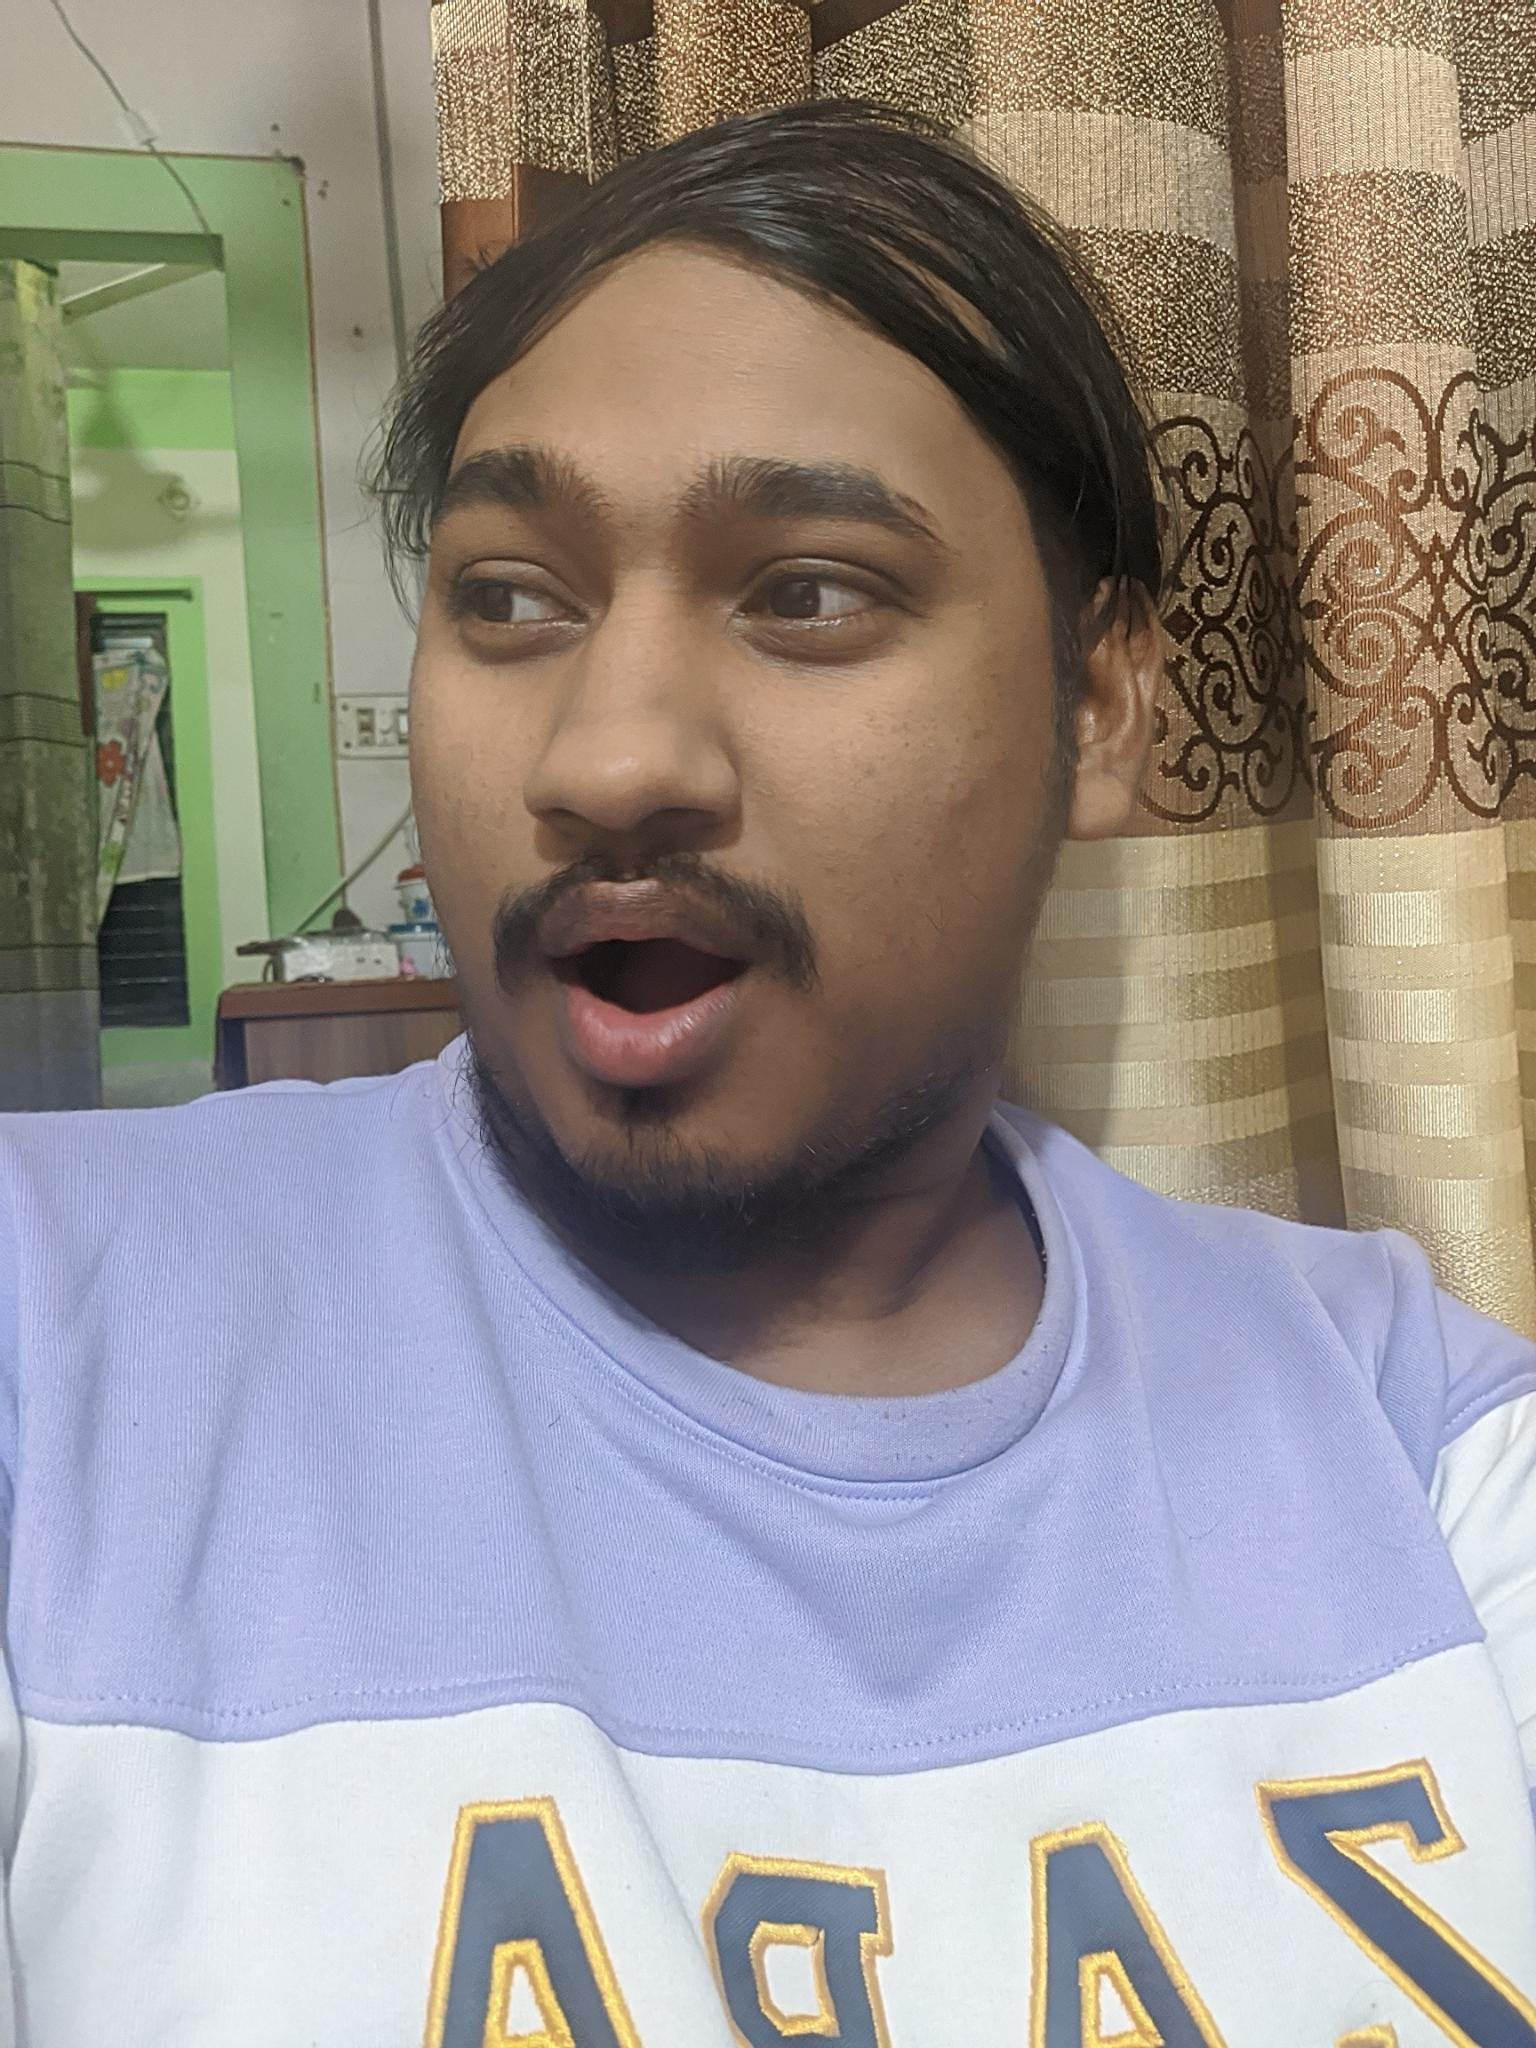Surprise: (361, 361, 1049, 1264)
